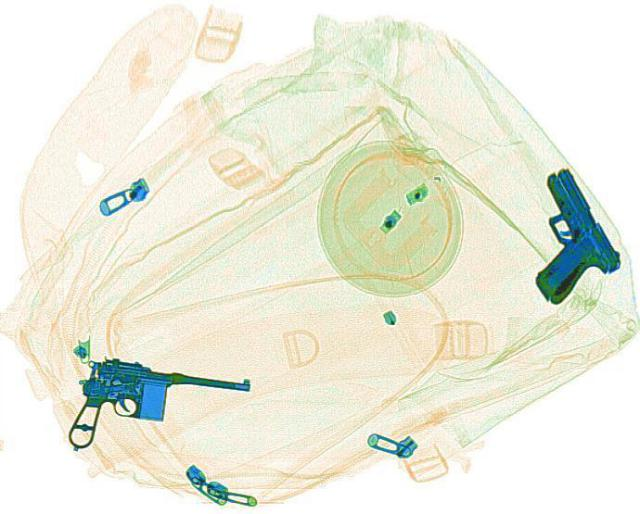Gun: (58, 350, 252, 473), (482, 164, 632, 304)
